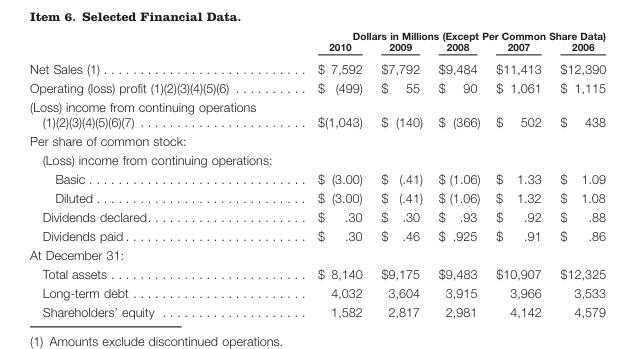table: (29, 29, 605, 318)
table column: (29, 29, 286, 318), (286, 29, 371, 318), (487, 29, 550, 318), (371, 29, 429, 318), (429, 29, 487, 318), (550, 29, 605, 318)
table column header: (29, 29, 605, 56)
table projected row header: (29, 130, 605, 149), (29, 149, 605, 168), (29, 244, 605, 263)
table row: (29, 96, 605, 130), (29, 56, 605, 77), (29, 77, 605, 96), (29, 130, 605, 149), (29, 149, 605, 168), (29, 168, 605, 187), (29, 187, 605, 206), (29, 206, 605, 225), (29, 225, 605, 244), (29, 244, 605, 263), (29, 263, 605, 282), (29, 282, 605, 301), (29, 301, 605, 318), (29, 40, 605, 56), (29, 29, 605, 40)
table spanning cell: (286, 29, 605, 40)
